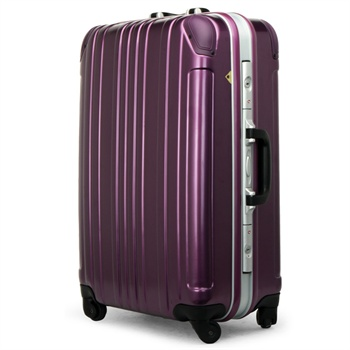luggage: (77, 5, 282, 346)
